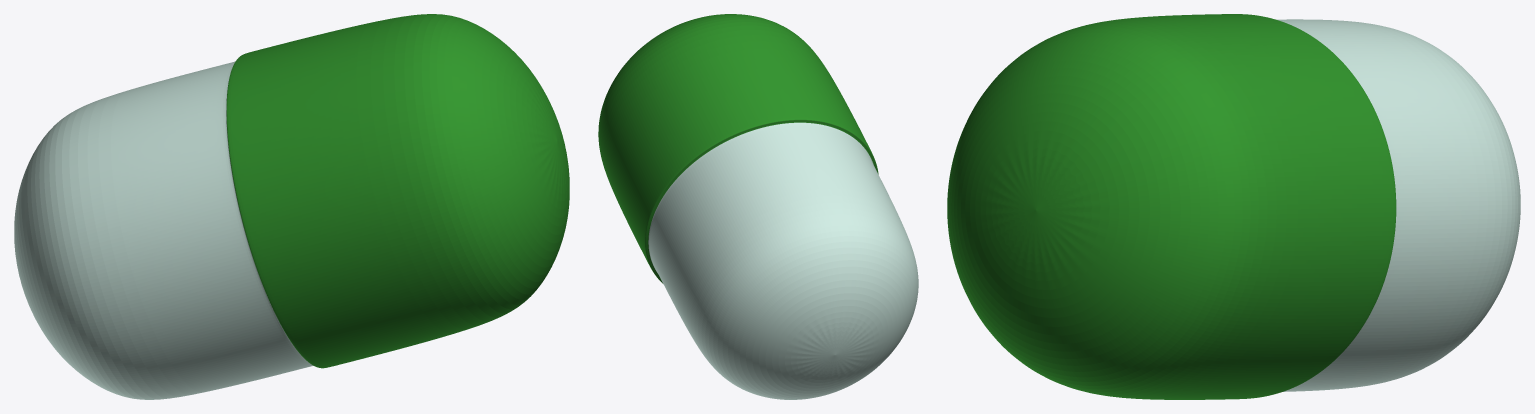
Rendered from Medicine.fbx.
3 views of the same model, side by side, from view 1: azimuth 30°, elevation 25°; view 2: azimuth 150°, elevation 25°; view 3: azimuth 270°, elevation 25° (orthographic). The views are drawn at different scales.
Visible parts, largest first — view 1: 柱体.139; view 2: 柱体.139; view 3: 柱体.139.
Part boxes in pixels (x1,y1,x2,y2): 柱体.139: [14, 14, 569, 399]; 柱体.139: [598, 14, 918, 399]; 柱体.139: [947, 14, 1520, 399].
Size of the model in its own units: 8.13 by 6.51 by 7.61.
